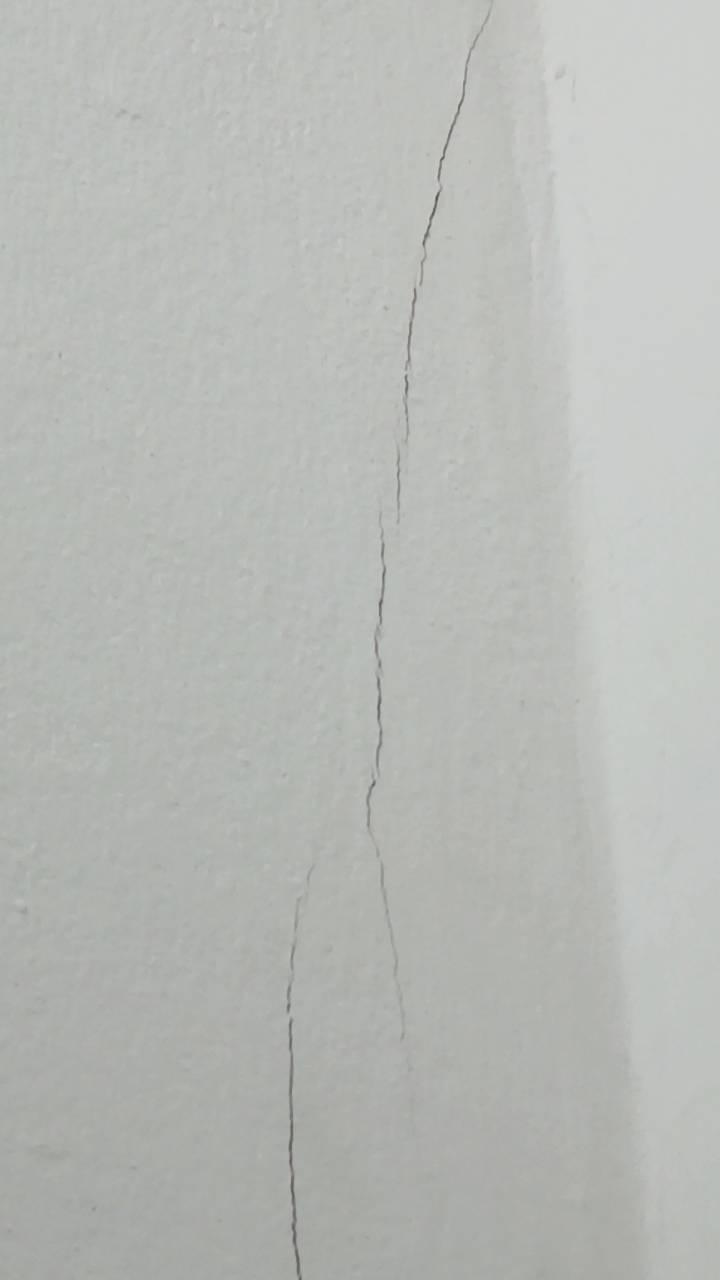Low: (272, 1, 552, 1279)
